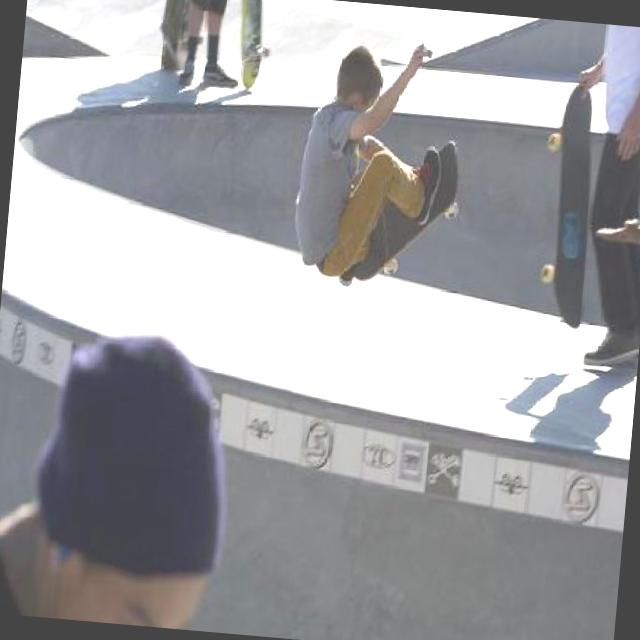Person: (0, 324, 236, 621), (291, 34, 452, 288), (552, 22, 640, 370), (176, 0, 246, 89)
